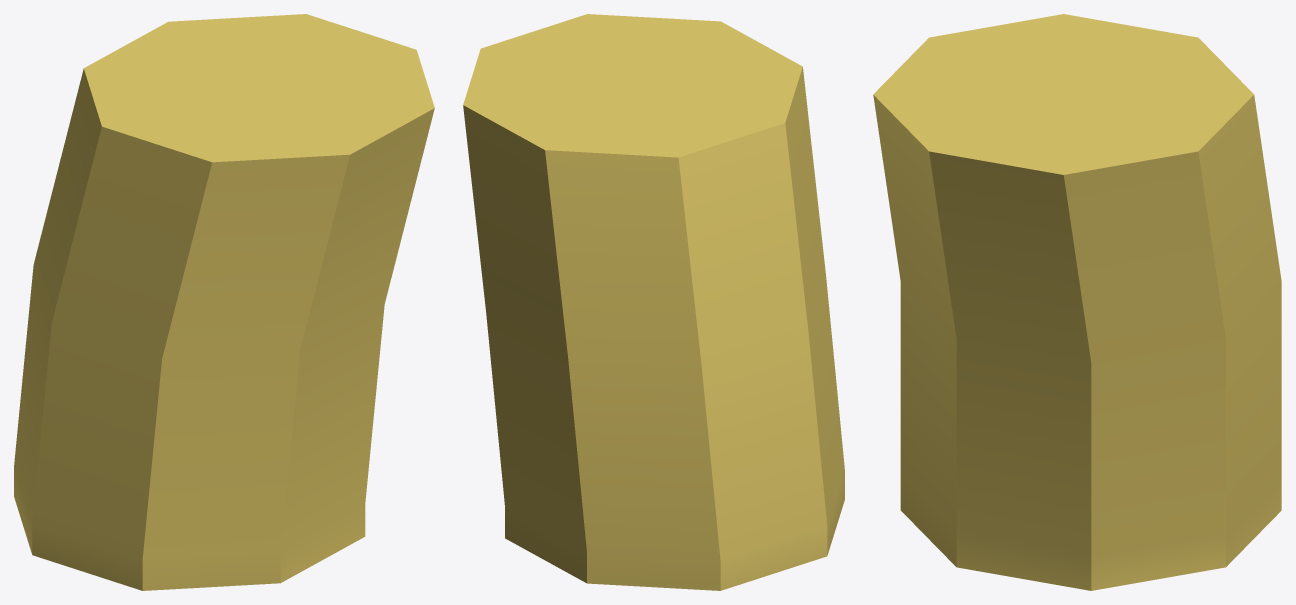
File: Gold2.fbx
3 views of the same model, side by side, from view 1: azimuth 30°, elevation 25°; view 2: azimuth 150°, elevation 25°; view 3: azimuth 270°, elevation 25° (orthographic). The views are drawn at different scales.
Visible parts, largest first — view 1: Gold3; view 2: Gold3; view 3: Gold3.
Boxes of the visible parts, bbox=[...] form: Gold3: bbox=[14, 14, 434, 590]; Gold3: bbox=[463, 14, 844, 590]; Gold3: bbox=[873, 14, 1281, 590].
Bounding box in the file's own units: 2.06 × 2.25 × 1.87.
